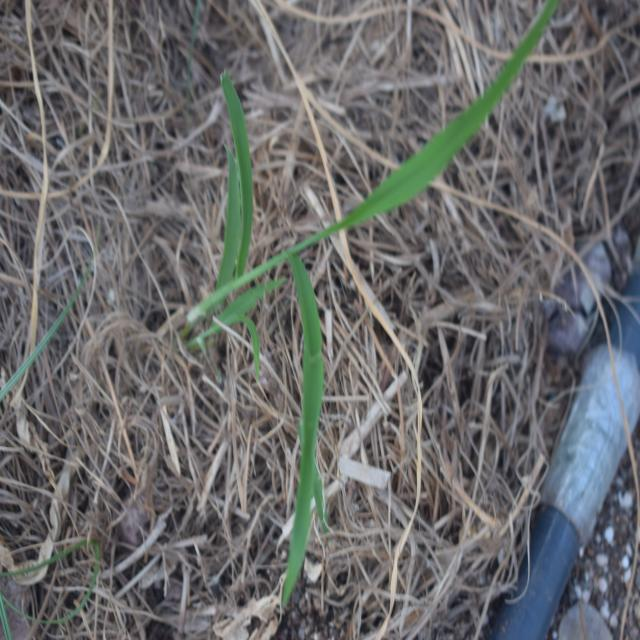crabgrass: (134, 17, 528, 514)
